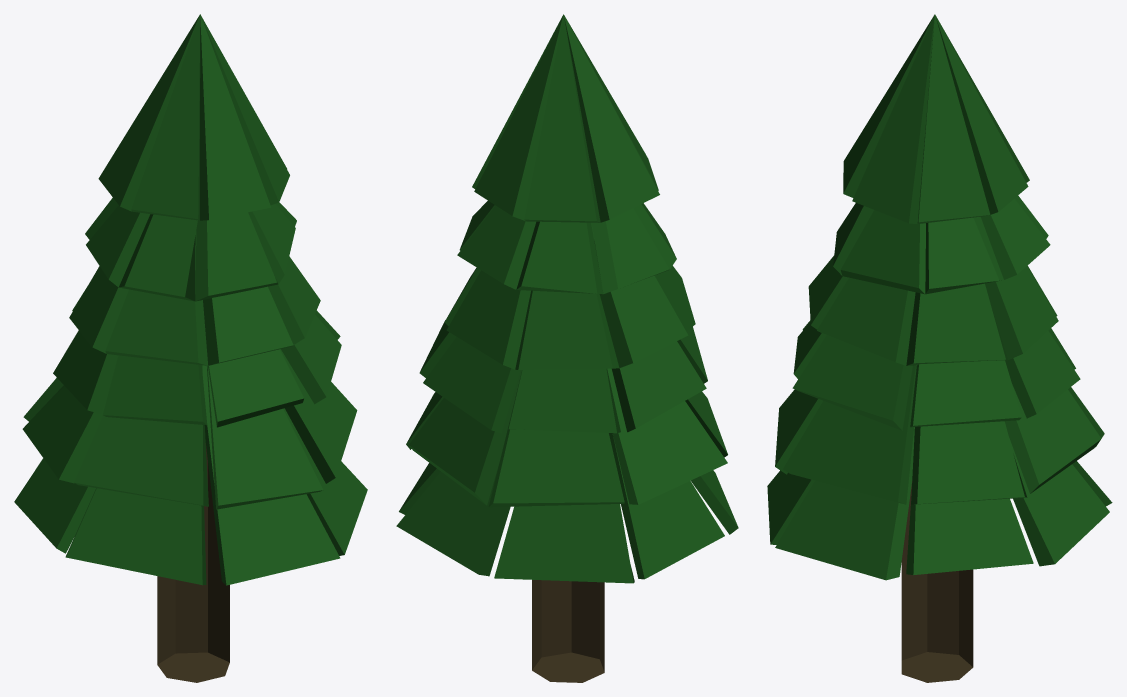
The model's file is PineTree.fbx.
The picture shows the model from 3 angles, left to right: view 1: azimuth 30°, elevation 25°; view 2: azimuth 150°, elevation 25°; view 3: azimuth 270°, elevation 25°; orthographic projection.
Visible parts, largest first — view 1: PineTree; view 2: PineTree; view 3: PineTree.
Part boxes in pixels (x1=…): PineTree: x1=14, y1=14, x2=367, y2=682; PineTree: x1=396, y1=14, x2=738, y2=682; PineTree: x1=767, y1=14, x2=1112, y2=682.
Size of the model in its own units: 53.61 by 112 by 53.48.
